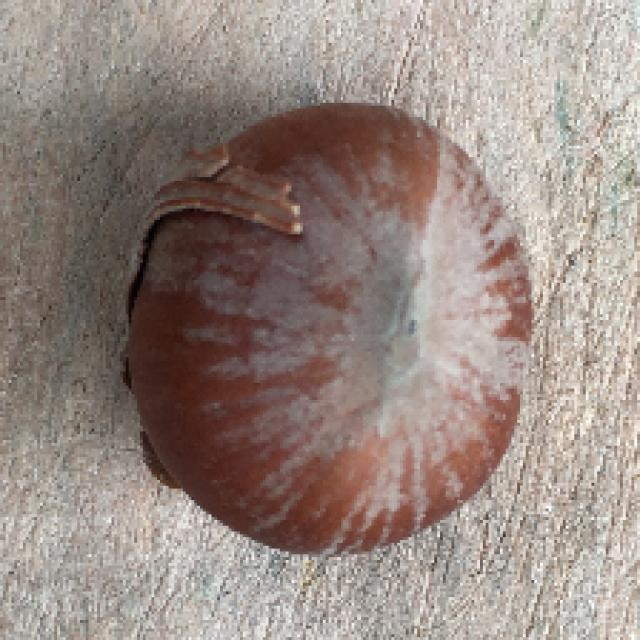hazelnut: (123, 99, 531, 547)
